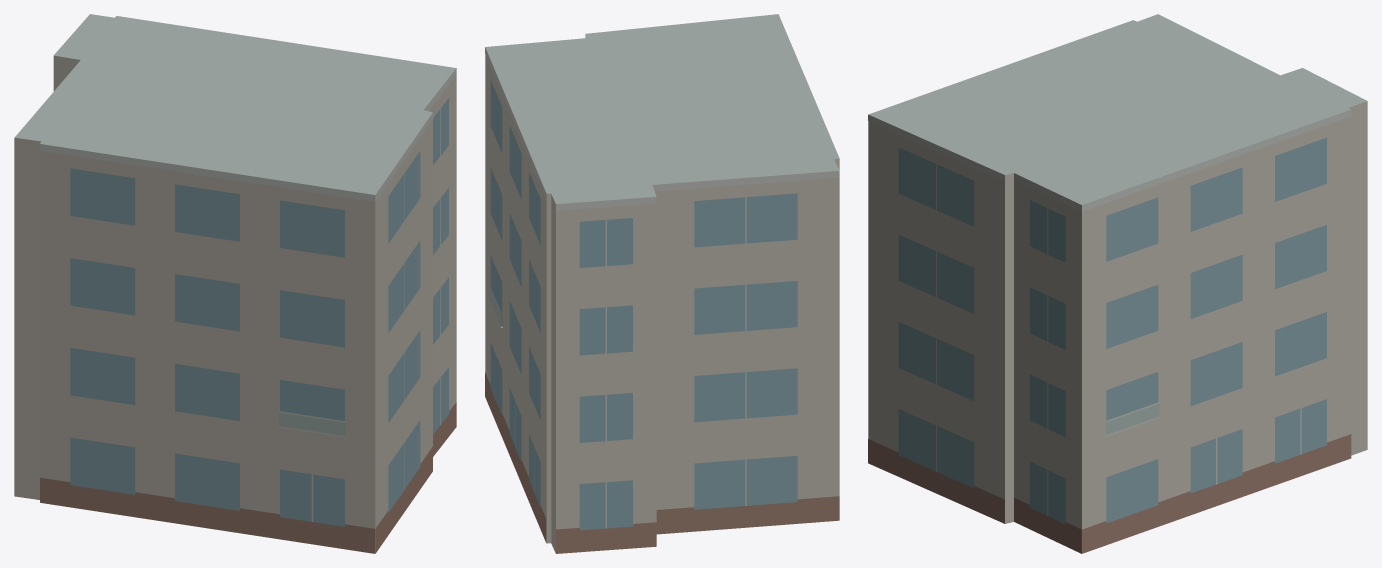
Rendered from survey-upis-32770299.glb.
The picture shows the model from 3 angles, left to right: view 1: azimuth 30°, elevation 25°; view 2: azimuth 150°, elevation 25°; view 3: azimuth 270°, elevation 25°; orthographic projection. The views are drawn at different scales.
Visible parts, largest first — view 1: survey-upis-32770299.tmp; view 2: survey-upis-32770299.tmp; view 3: survey-upis-32770299.tmp.
Part boxes in pixels (x1=…): survey-upis-32770299.tmp: x1=14, y1=14, x2=456, y2=553; survey-upis-32770299.tmp: x1=485, y1=14, x2=839, y2=553; survey-upis-32770299.tmp: x1=868, y1=14, x2=1367, y2=553.
Size of the model in its own units: 14.92 by 12.69 by 16.48.
